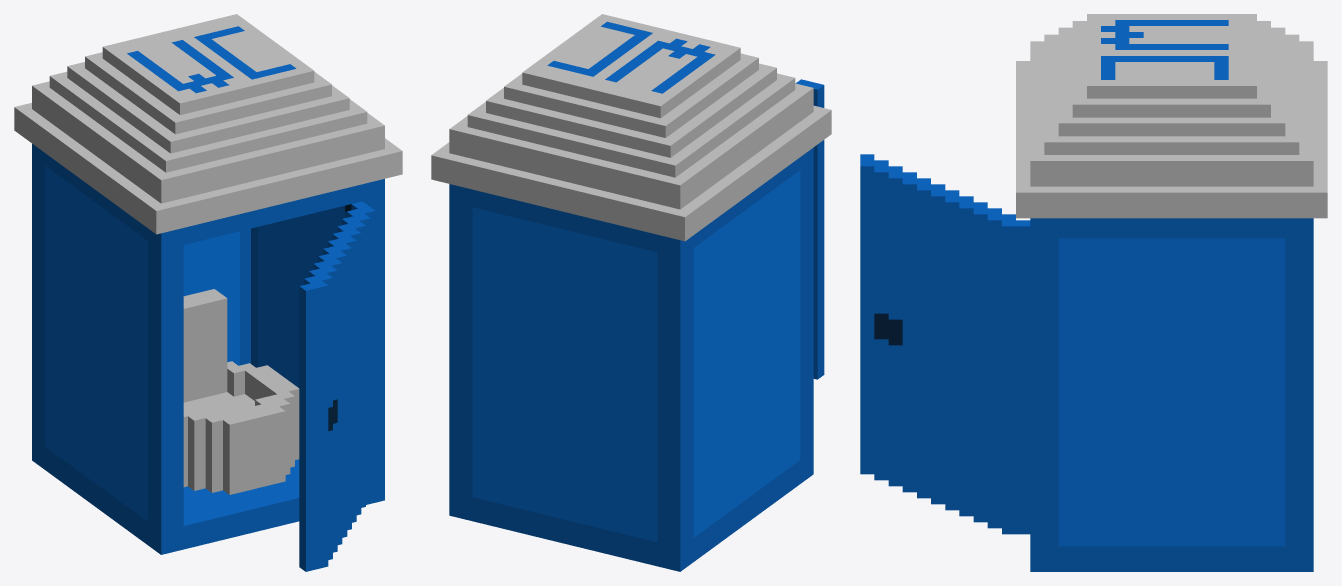
File: Dixieklo halb.obj
The picture shows the model from 3 angles, left to right: view 1: azimuth 30°, elevation 25°; view 2: azimuth 150°, elevation 25°; view 3: azimuth 270°, elevation 25°; orthographic projection. The views are drawn at different scales.
Size of the model in its own units: 2.2 by 3.6 by 3.3.
Materials: 1 (1 with a texture image).
